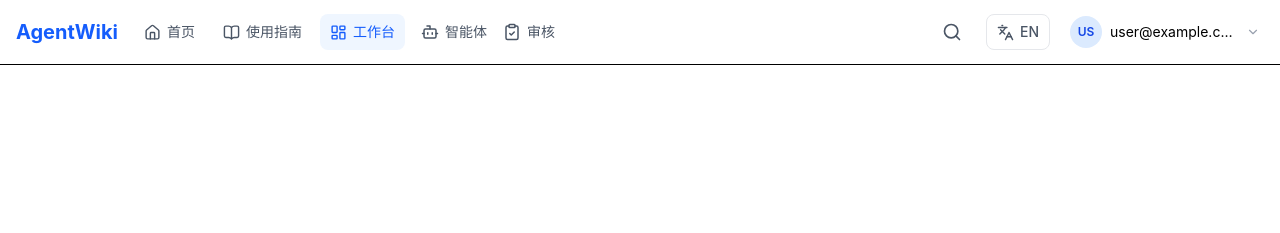
Navbar global destinations › shows top-level routes and removes their menu duplicates
Expected: the link "首页" is shown, [144,23,195,40]
Expected: the link "智能体" is shown, [421,22,487,42]
Step 1. Click the button with aria-label "个人菜单" → (1165, 32), box [1066,12,1264,52]
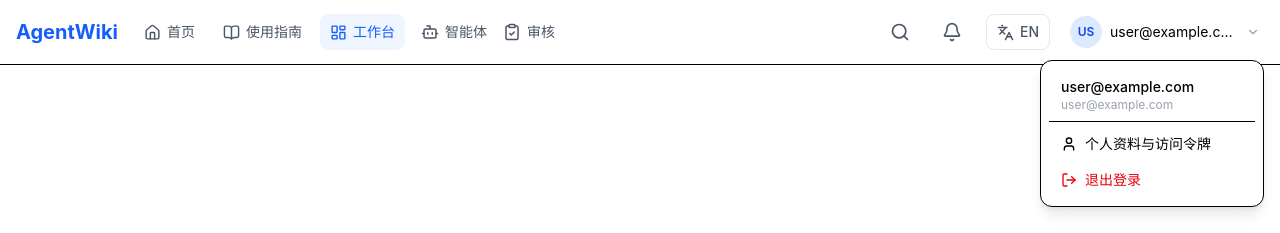
Expected: the number of links "使用指南" is 1, [223,23,302,40]
Now the link "个人资料与访问令牌" is shown, box [1061,135,1211,152]
